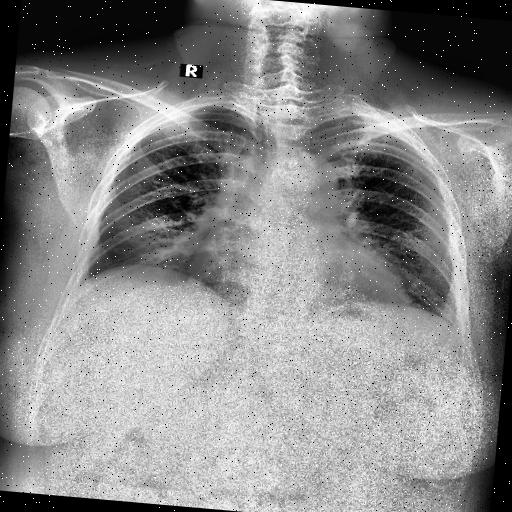0- Aortic enlargement: (274, 151, 341, 215), (278, 153, 346, 207), (282, 150, 339, 196)
3- Cardiomegaly: (186, 231, 408, 310), (184, 248, 408, 322), (184, 244, 416, 304)
